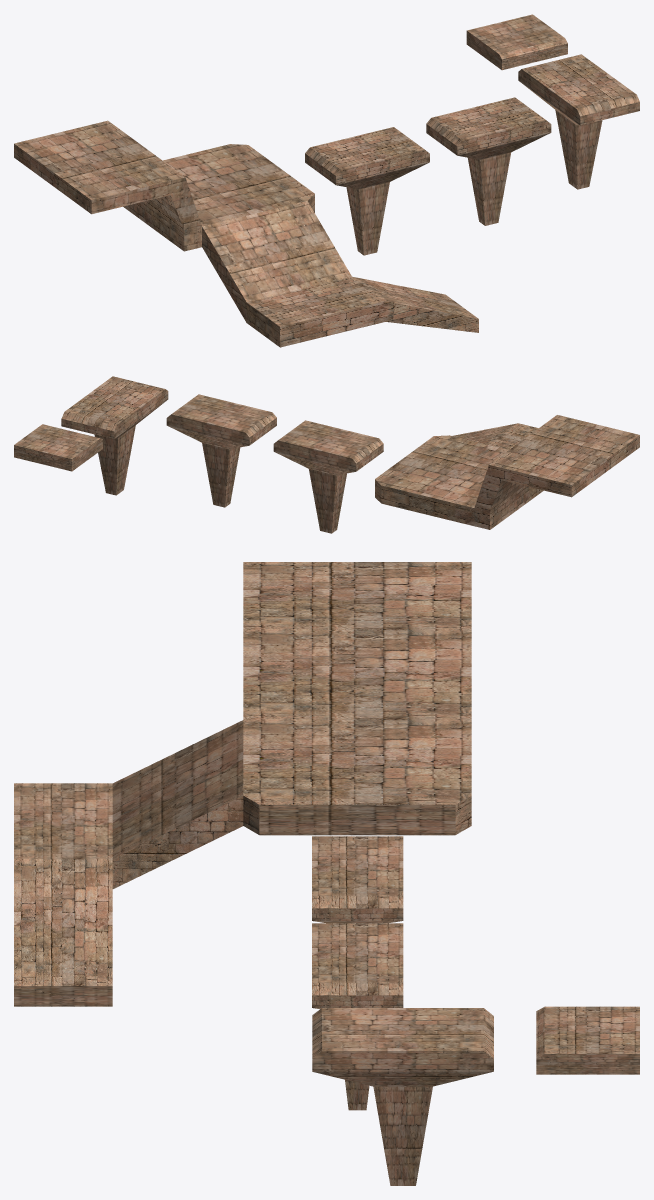
The model's file is WaterRoom_ReUV.FBX.
3 renders of one model, top to bottom at view 1: azimuth 30°, elevation 25°; view 2: azimuth 150°, elevation 25°; view 3: azimuth 270°, elevation 25°, orthographic. The views are drawn at different scales.
Parts seen in each view (by area): view 1: Ramp, Platform (×3), Exit; view 2: Ramp, Platform (×3), Exit; view 3: Ramp, Platform (×3), Exit.
Boxes of the visible parts, x1,y1,x2,y2 form: Ramp: [14, 120, 478, 347]; Platform (×3): [305, 54, 639, 255]; Exit: [466, 14, 567, 70]; Ramp: [375, 415, 639, 529]; Platform (×3): [61, 376, 383, 533]; Exit: [14, 424, 102, 471]; Ramp: [14, 562, 471, 1006]; Platform (×3): [312, 836, 493, 1185]; Exit: [536, 1006, 639, 1074].
Bounding box in the file's own units: 1457 × 379 × 932.
1 material, 1 textured.
